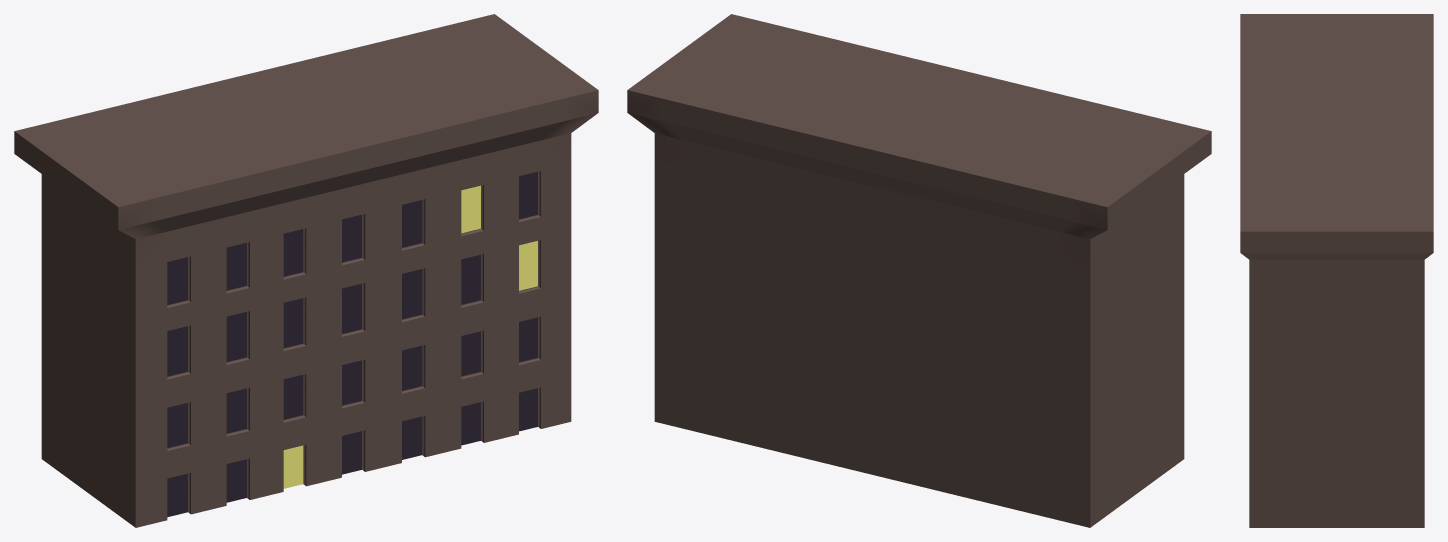
3 views of the same model, side by side, from view 1: azimuth 30°, elevation 25°; view 2: azimuth 150°, elevation 25°; view 3: azimuth 270°, elevation 25° (orthographic). The views are drawn at different scales.
Visible parts, largest first — view 1: _b8; view 2: _b8; view 3: _b8.
Part boxes in pixels (box(x1,y1,x2,y2)): _b8: box(14, 14, 598, 527); _b8: box(627, 14, 1211, 527); _b8: box(1240, 14, 1433, 527).
Size of the model in its own units: 4.41 by 2.89 by 1.65.
1 material, 1 textured.
